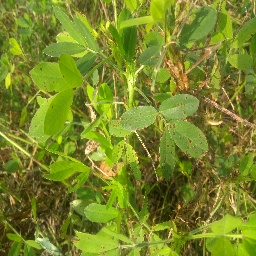GroundNut_Leaf: (29, 89, 78, 136), (52, 5, 98, 55), (180, 6, 217, 43), (29, 61, 82, 86), (176, 120, 210, 155), (121, 105, 157, 131), (160, 94, 200, 117), (82, 201, 121, 223), (161, 124, 176, 180), (124, 144, 142, 186)
